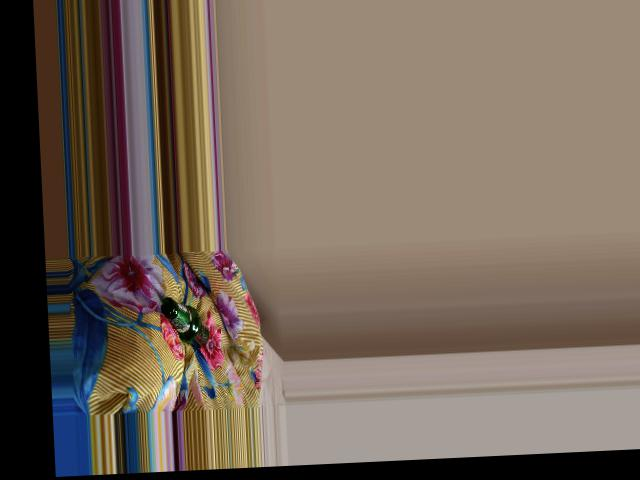beer: (159, 294, 209, 349)
